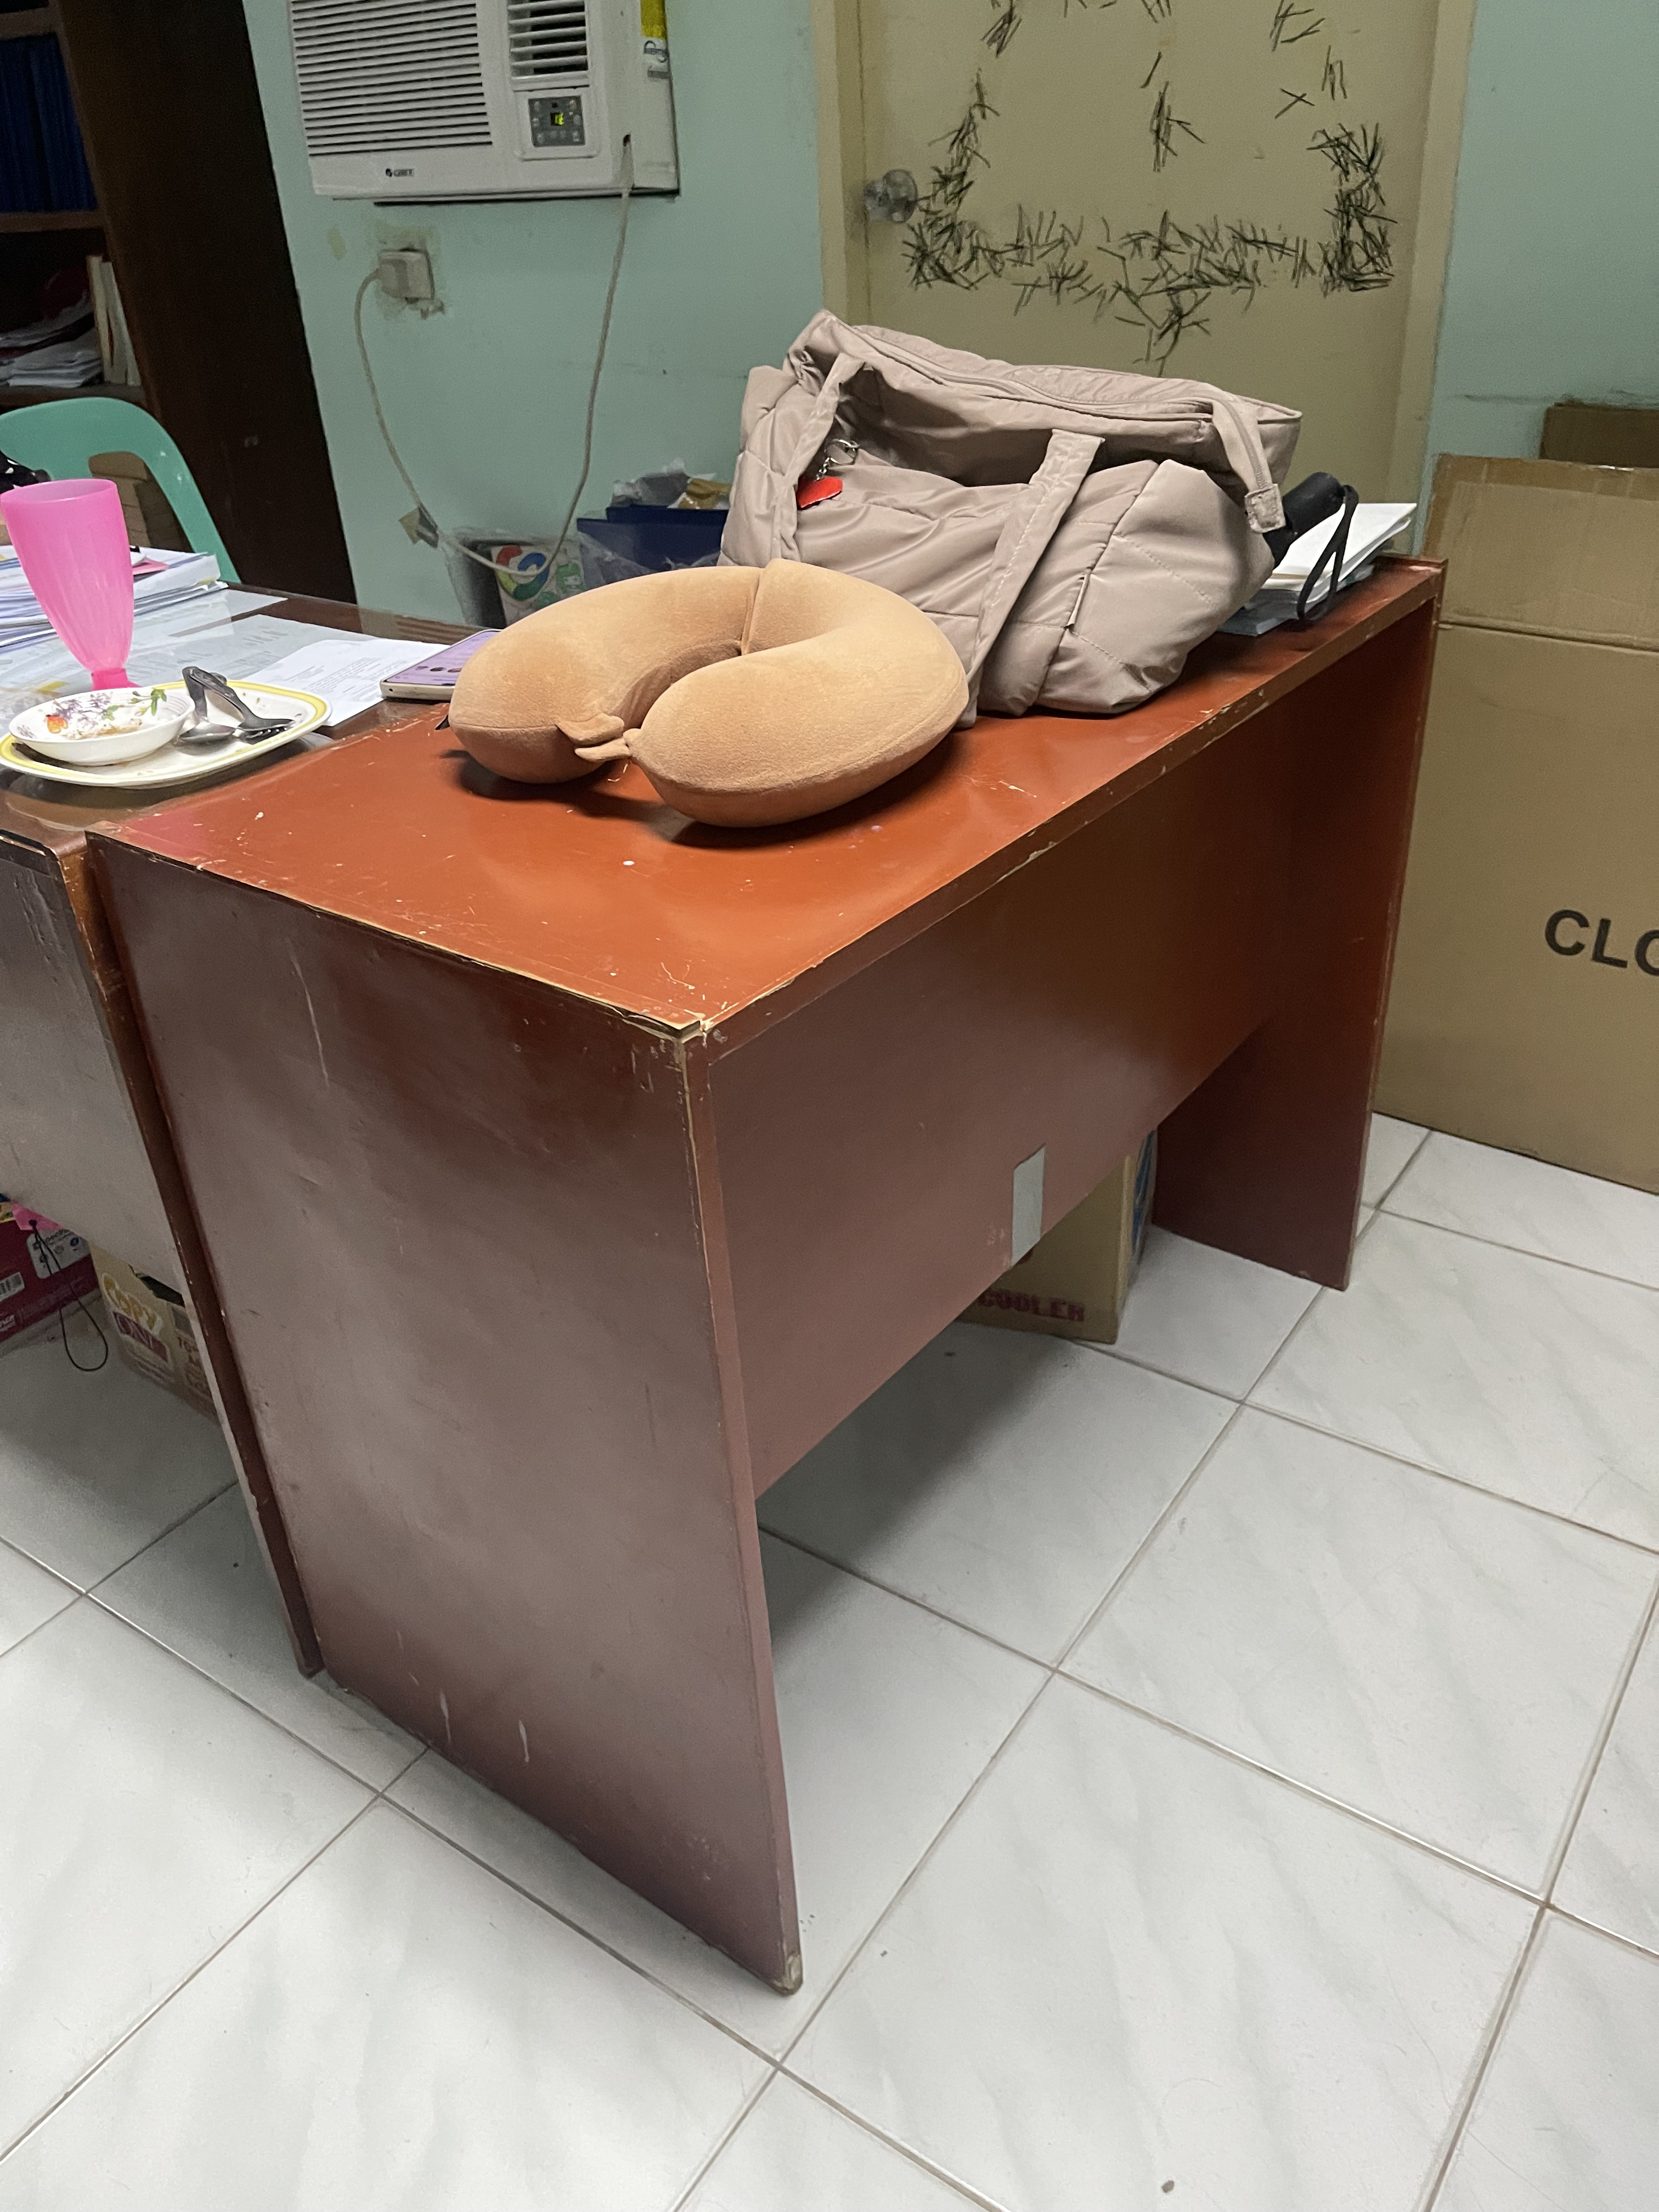table2: (7, 463, 1551, 2029)
